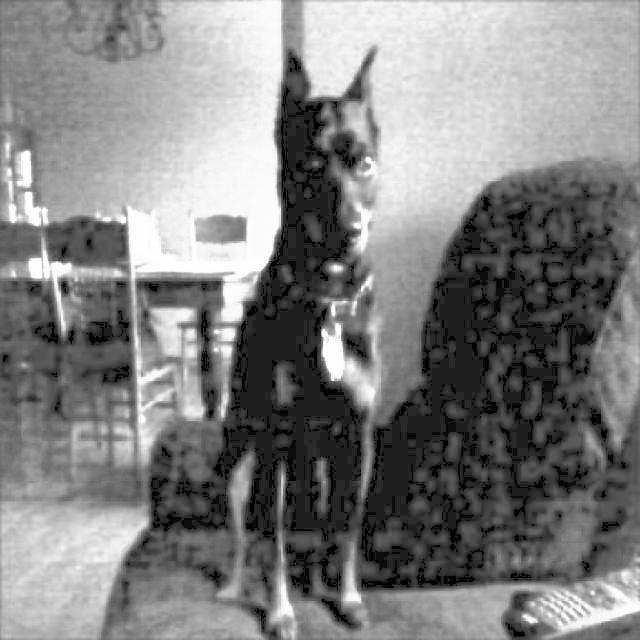Dog: (215, 21, 392, 640)
